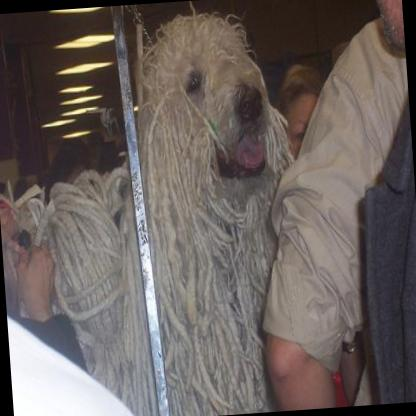komondor: (0, 0, 311, 416)
